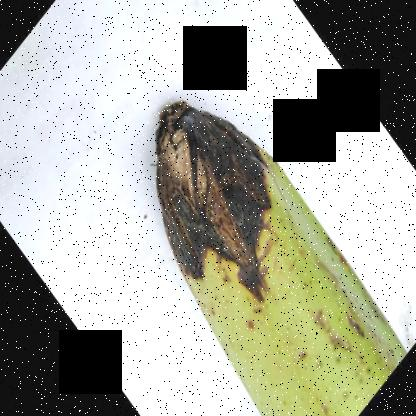rotten: (139, 87, 287, 319)
unripe: (248, 209, 404, 415)
